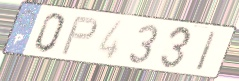0: (31, 11, 67, 56)
3: (159, 25, 194, 71), (127, 23, 160, 66)
4: (95, 18, 125, 64)
I: (194, 29, 219, 73)
P: (58, 15, 100, 57)
